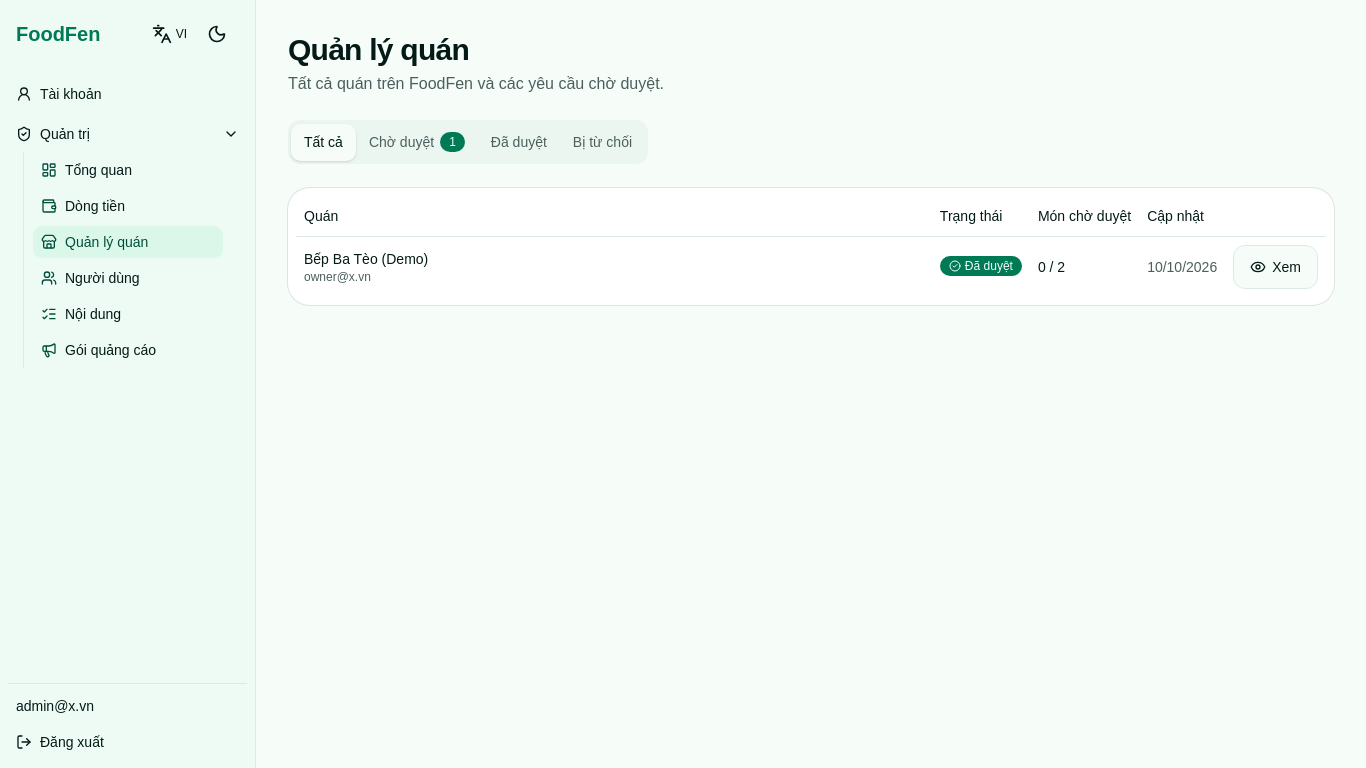
Test: opening a restaurant from the list shows its menu
Click the button with aria-label "Xem Bếp Ba Tèo (Demo)" at point(1276, 266), box [1233,244,1318,288]
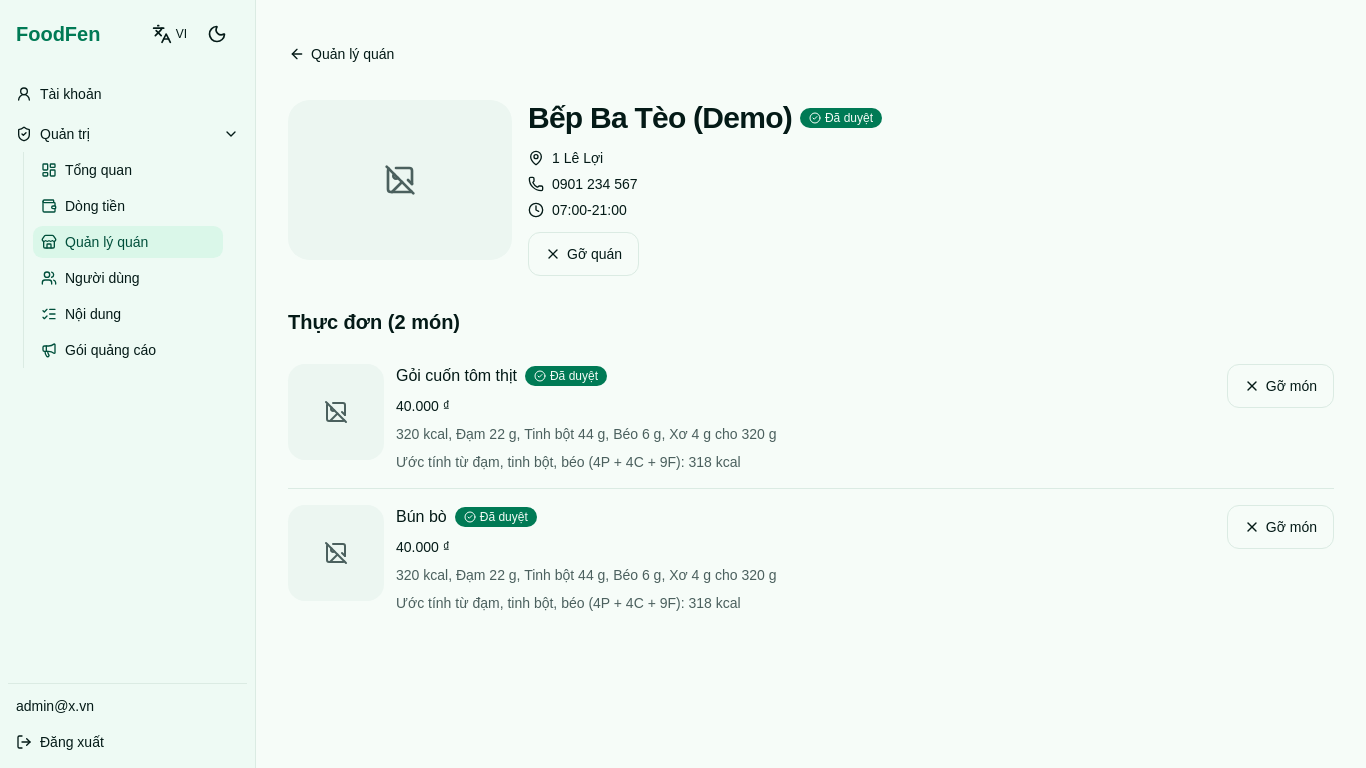
Expected: the heading "Thực đơn (2 món)" is shown, [288,308,460,336]
Expected: the heading "Gỏi cuốn tôm thịt" is shown, [396,364,517,388]
Expected: the heading "Bún bò" is shown, [396,505,447,529]
